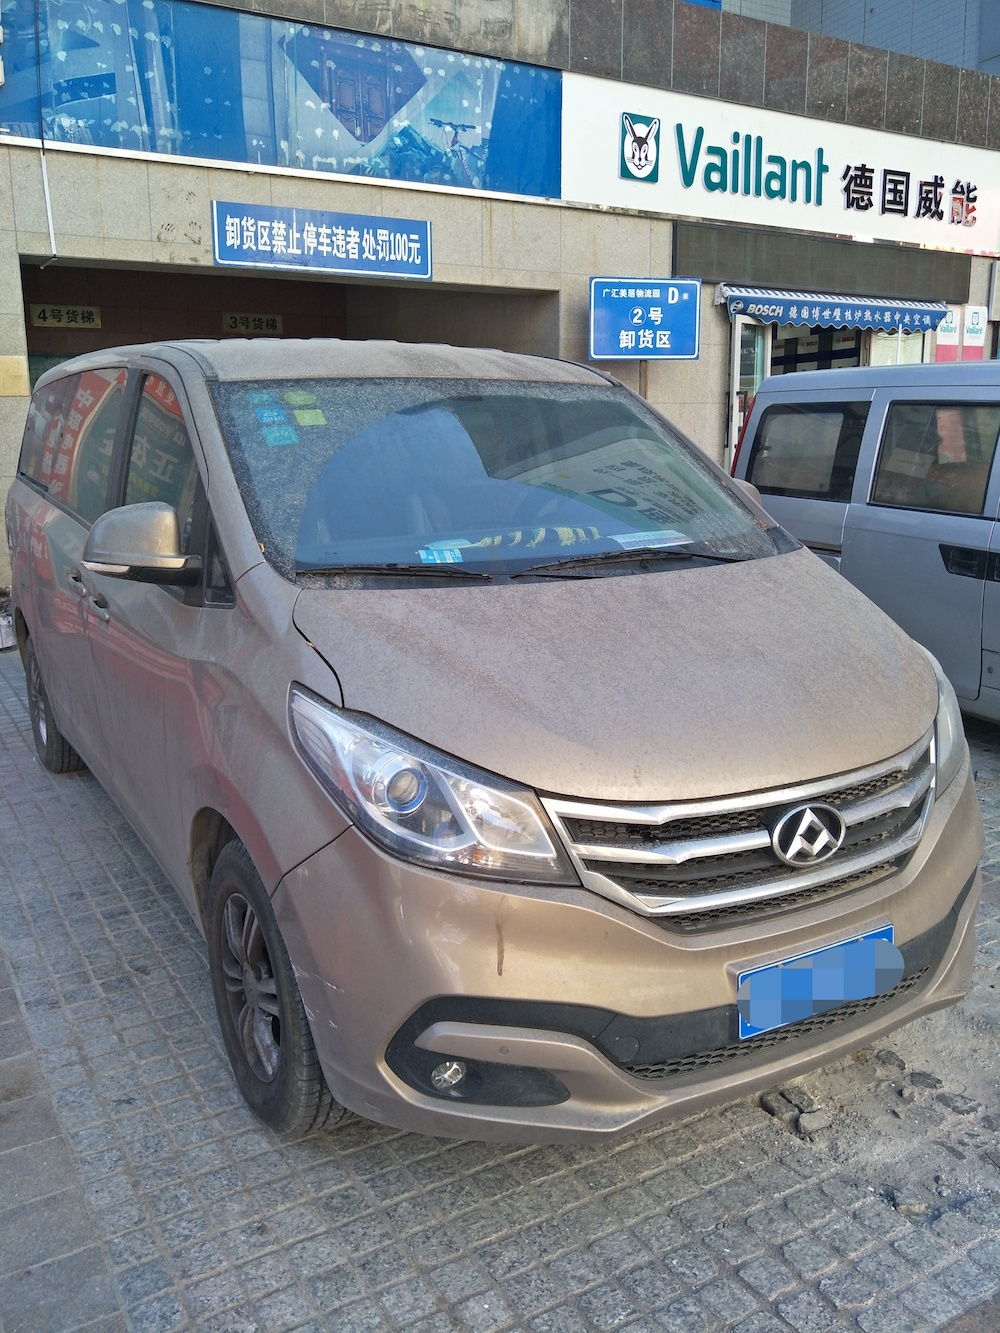minibus: (19, 346, 987, 1119)
